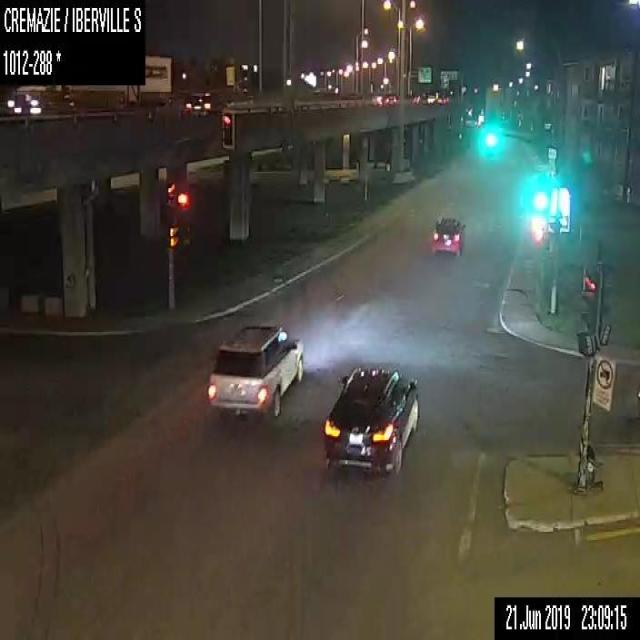vehicle: (322, 363, 417, 473), (207, 322, 306, 418), (13, 54, 172, 110), (431, 214, 465, 254), (184, 92, 228, 114), (371, 94, 382, 105), (385, 94, 397, 103), (412, 94, 420, 103), (426, 94, 435, 102)
